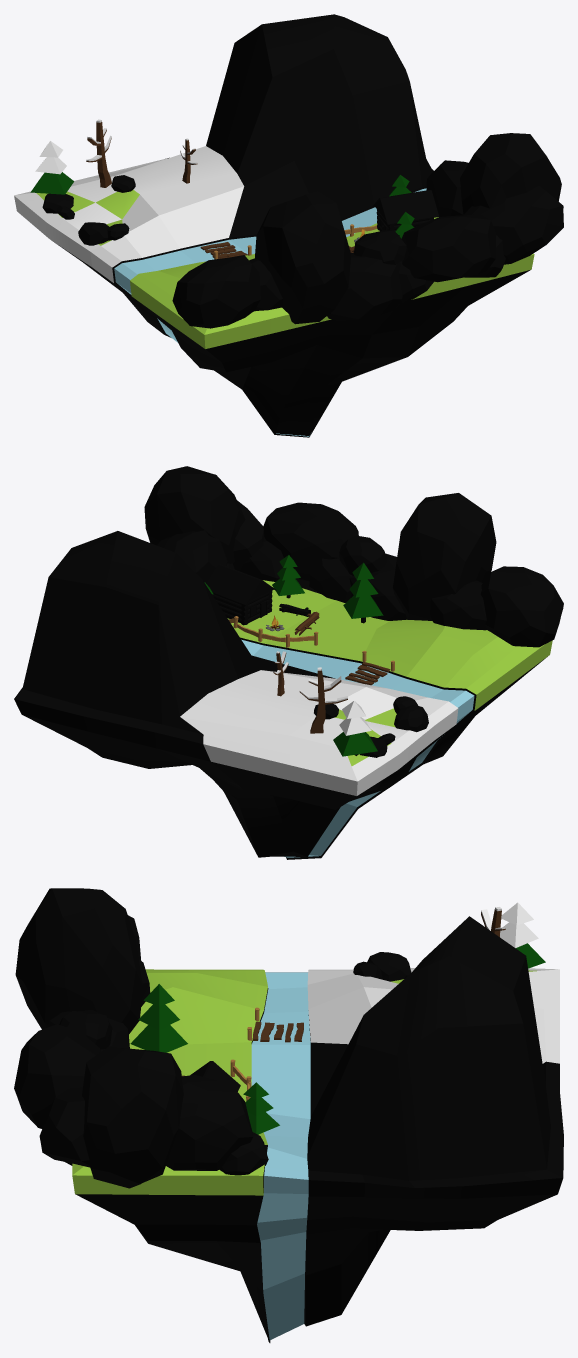
The model's file is Floating_Island2_Export.fbx.
3 renders of one model, top to bottom at view 1: azimuth 30°, elevation 25°; view 2: azimuth 150°, elevation 25°; view 3: azimuth 270°, elevation 25°, orthographic. The views are drawn at different scales.
Parts seen in each view (by area): view 1: Island2, bolder12, bolder5, bolder9, bolder14, bolder6, bolder10, Hut, bolder3, bolder11, Pine_tree1, bolder13 (+3 smaller); view 2: Island2, bolder12, bolder5, bolder14, bolder9, Hut, bolder13, bolder3, Pine_tree1, bolder8, bolder10, bolder11 (+6 smaller); view 3: Island2, bolder12, bolder5, bolder3, bolder9, bolder6, Pine_tree3, Pine_tree1, bolder11, bolder1, Pine_tree4, bolder17 (+2 smaller).
Part boxes in pixels (<box>): Island2: <box>14,14,534,437</box>; bolder12: <box>255,191,351,324</box>; bolder5: <box>460,133,561,214</box>; bolder9: <box>401,214,495,282</box>; bolder14: <box>172,255,260,328</box>; bolder6: <box>464,186,563,264</box>; bolder10: <box>327,252,402,320</box>; Hut: <box>372,190,439,231</box>; bolder3: <box>426,160,468,217</box>; bolder11: <box>354,230,406,264</box>; Pine_tree1: <box>30,141,73,194</box>; bolder13: <box>249,258,282,310</box>; Island2: <box>14,531,552,859</box>; bolder12: <box>392,493,496,620</box>; bolder5: <box>144,466,245,563</box>; bolder14: <box>480,566,563,647</box>; bolder9: <box>263,502,358,581</box>; Hut: <box>207,564,276,625</box>; bolder13: <box>430,580,486,630</box>; bolder3: <box>157,530,227,583</box>; Pine_tree1: <box>333,701,377,756</box>; bolder8: <box>309,558,351,602</box>; bolder10: <box>349,553,406,620</box>; bolder11: <box>339,535,386,575</box>; Island2: <box>72,916,563,1342</box>; bolder12: <box>15,888,143,1034</box>; bolder5: <box>82,1046,183,1188</box>; bolder3: <box>166,1075,253,1170</box>; bolder9: <box>14,1024,100,1128</box>; bolder6: <box>39,1087,90,1167</box>; Pine_tree3: <box>130,984,187,1052</box>; Pine_tree1: <box>500,902,545,968</box>; bolder11: <box>59,1009,112,1049</box>; bolder1: <box>219,1132,268,1175</box>; Pine_tree4: <box>243,1082,279,1134</box>; bolder17: <box>367,952,411,981</box>.
Size of the model in its own units: 27.22 by 23.57 by 26.3.
